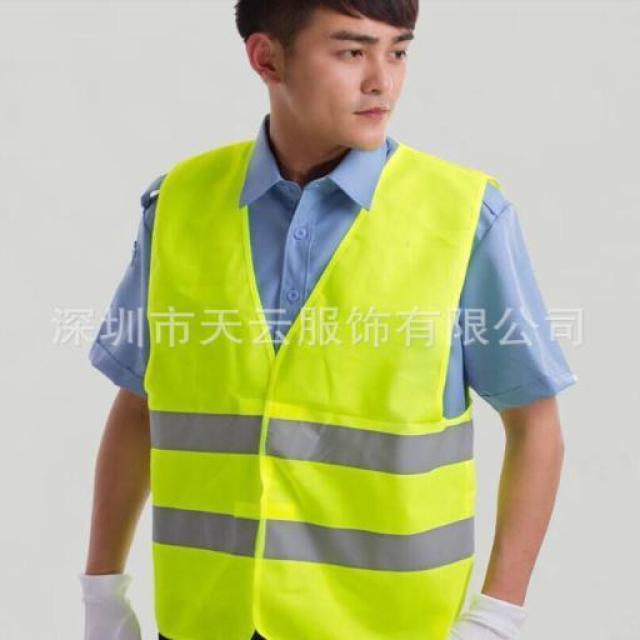vest: (151, 147, 473, 638)
